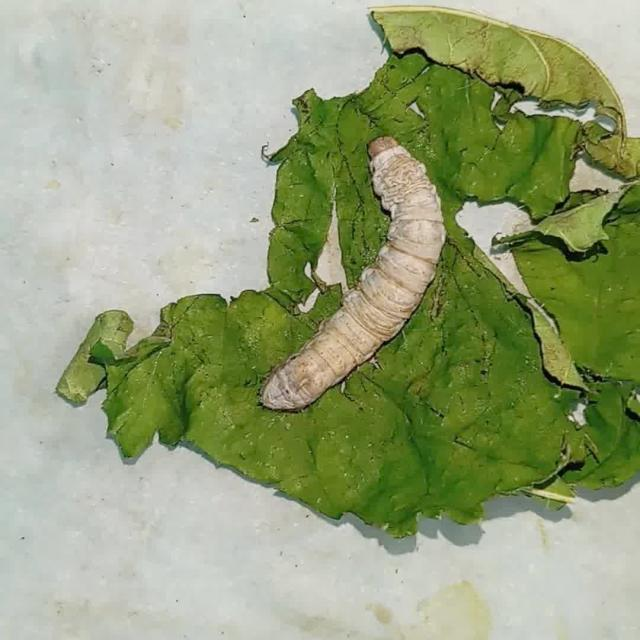Grasserie: (247, 114, 455, 425)
